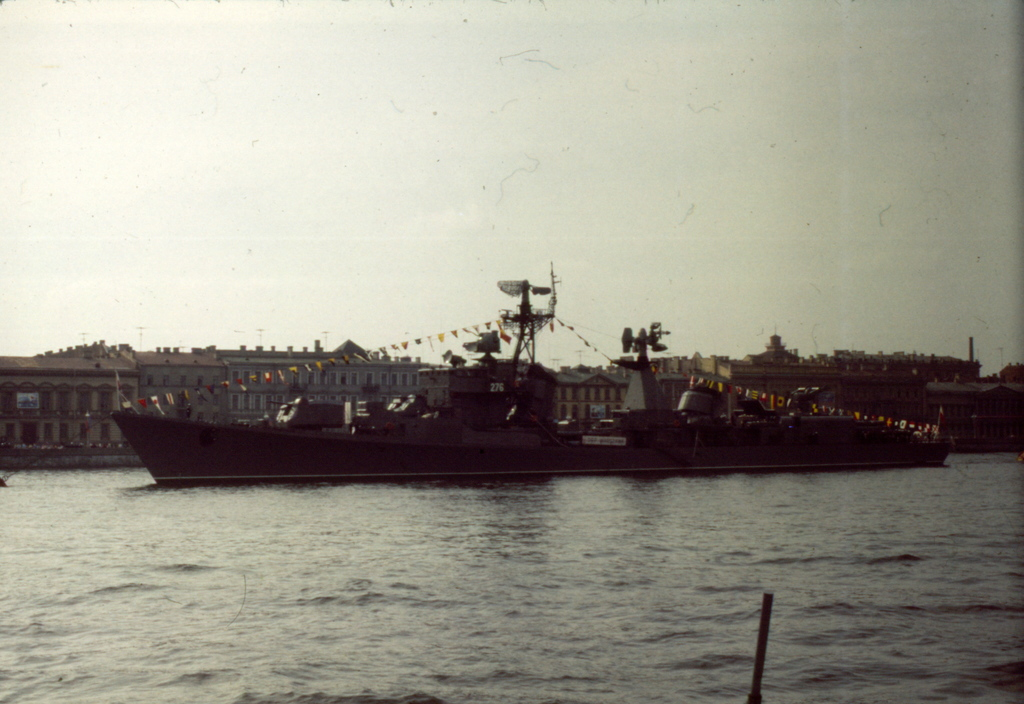boat: (96, 280, 949, 514)
